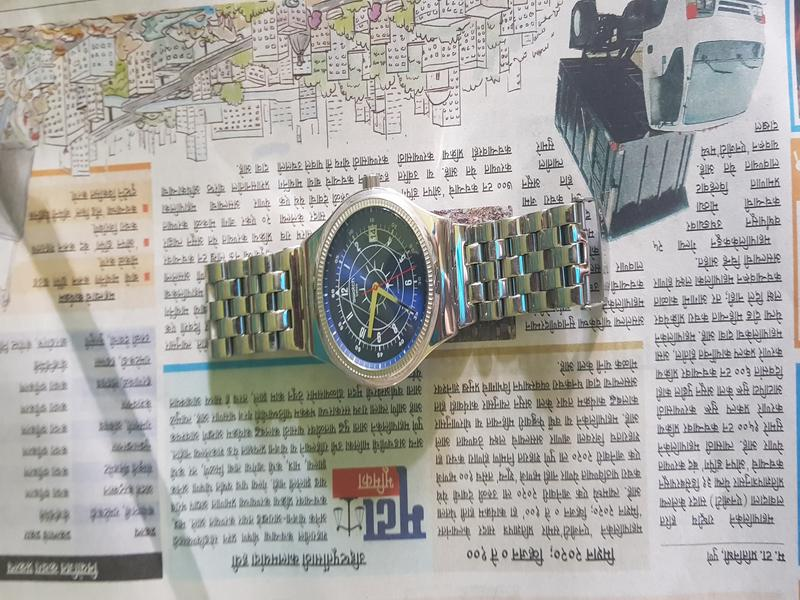watch: (160, 175, 638, 387)
